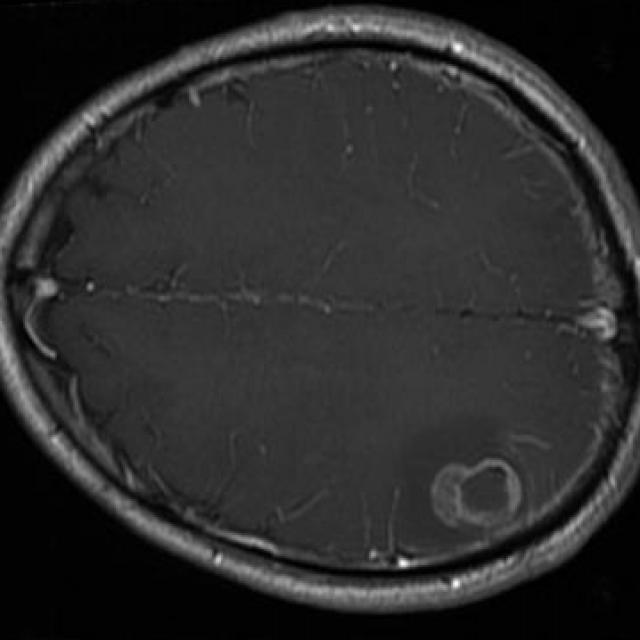glioma: (430, 460, 528, 535)
